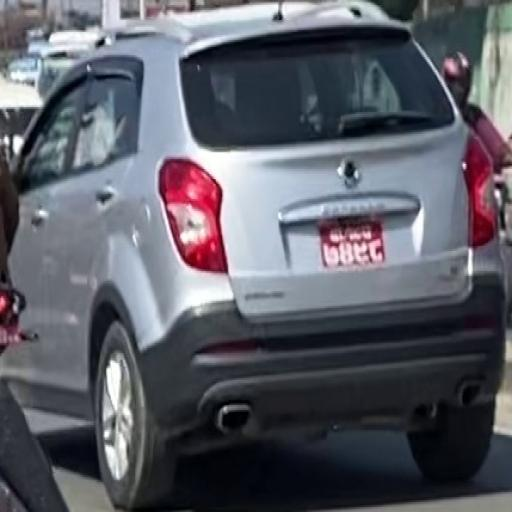license_plate: (316, 218, 386, 275)
